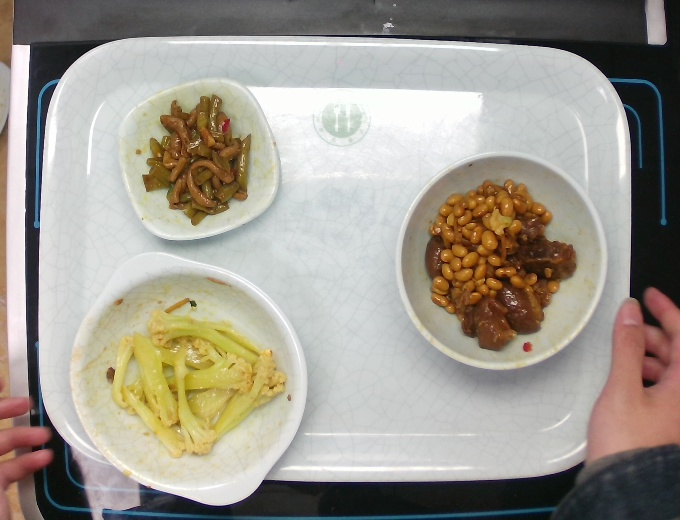JYsf-Fan_Wan: (389, 145, 621, 380)
JYsf-Shuang_Er_Wan: (63, 243, 319, 513)
JYsf-Si_Fang_Die: (108, 72, 285, 249)
